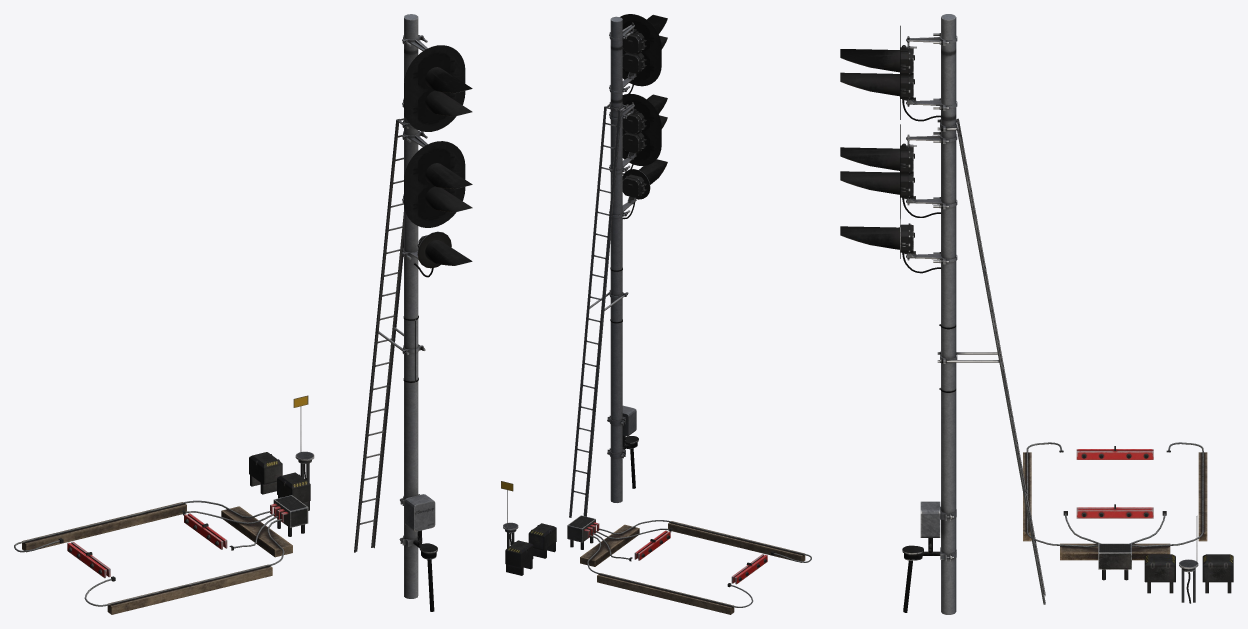
The model's file is RM_sig_MM2_2+2+1_entr.gltf.
3 views of the same model, side by side, from view 1: azimuth 30°, elevation 25°; view 2: azimuth 150°, elevation 25°; view 3: azimuth 270°, elevation 25° (orthographic). The views are drawn at different scales.
Visible parts, largest first — view 1: Светофор ВХОДНОЙ, Изостык, Cylinder002, Cylinder001; view 2: Светофор ВХОДНОЙ, Изостык, Cylinder001, Cylinder002; view 3: Светофор ВХОДНОЙ, Изостык.
Part boxes in pixels (x1=…): Светофор ВХОДНОЙ: x1=354, y1=14, x2=472, y2=611; Изостык: x1=14, y1=395, x2=314, y2=614; Cylinder002: x1=404, y1=141, x2=465, y2=227; Cylinder001: x1=404, y1=45, x2=465, y2=131; Светофор ВХОДНОЙ: x1=569, y1=14, x2=667, y2=517; Изостык: x1=501, y1=481, x2=811, y2=614; Cylinder001: x1=620, y1=14, x2=661, y2=86; Cylinder002: x1=622, y1=93, x2=661, y2=165; Светофор ВХОДНОЙ: x1=840, y1=14, x2=1045, y2=614; Изостык: x1=1023, y1=442, x2=1233, y2=603.
Bounding box in the file's own units: 4.22 × 7.57 × 4.54.
Materials: 3 (2 with a texture image).
